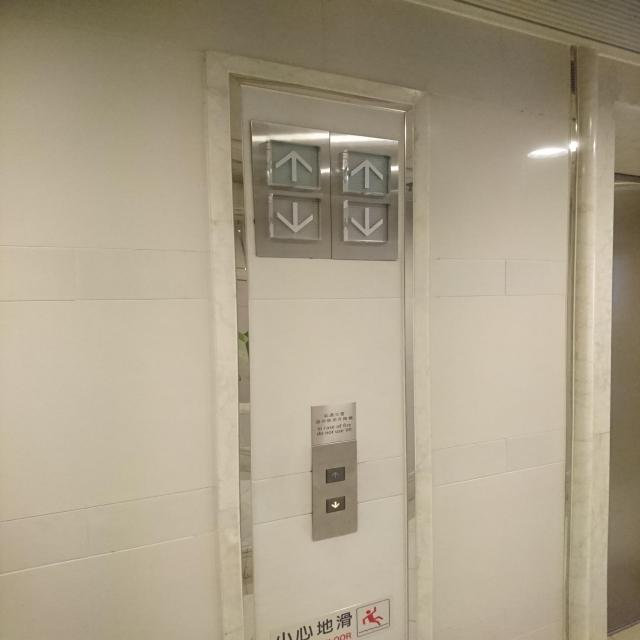down: (267, 192, 323, 241), (342, 199, 391, 244), (324, 495, 346, 514)
up: (265, 137, 322, 190), (340, 146, 393, 197), (325, 466, 345, 484)
